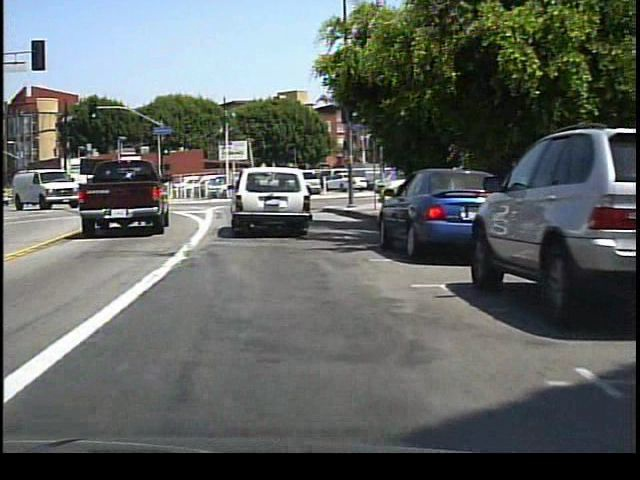person: (344, 168, 359, 199)
